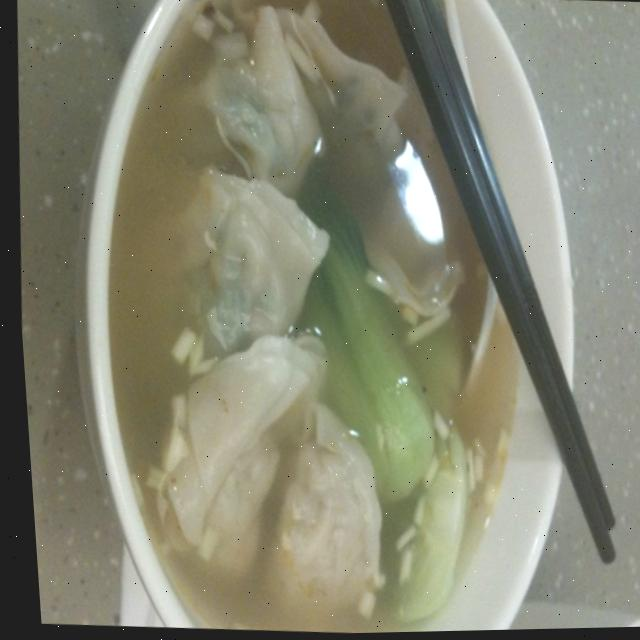汤锅炖物: (63, 0, 583, 639)
